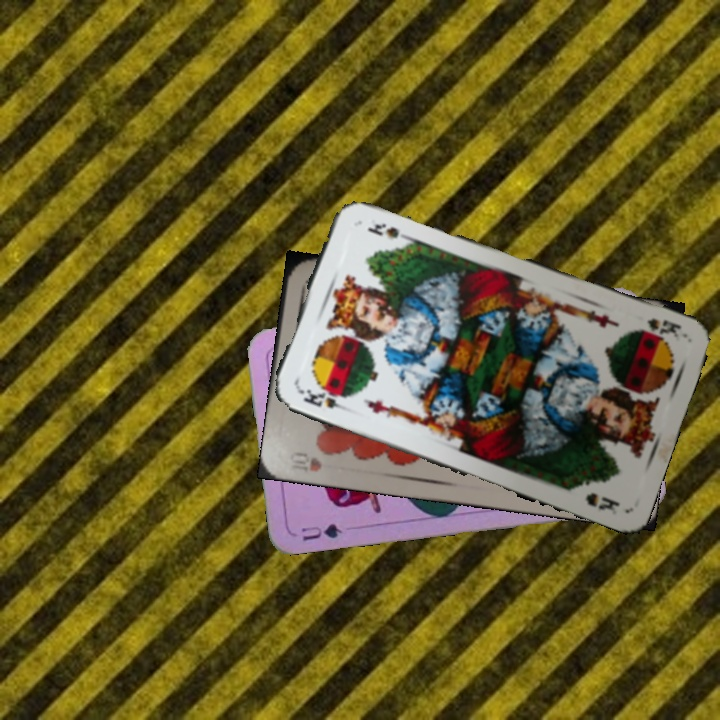GU: (297, 519, 345, 544)
H10: (284, 447, 325, 475)
SK: (295, 385, 352, 415), (635, 314, 685, 341)
